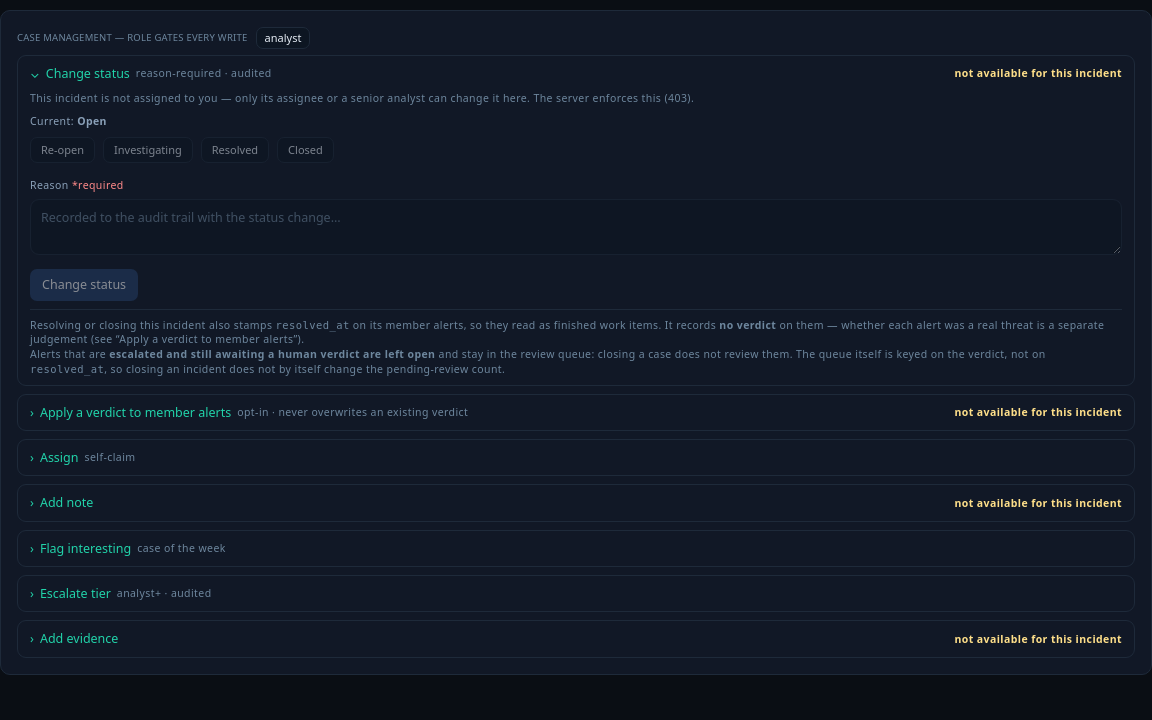
WO-H85 verdict propagation control › shows it disabled for an analyst who does not own the incident
The image size is (1152, 720).
Click the text "Apply a verdict to member alerts": point(136, 412) [40,402,231,422]
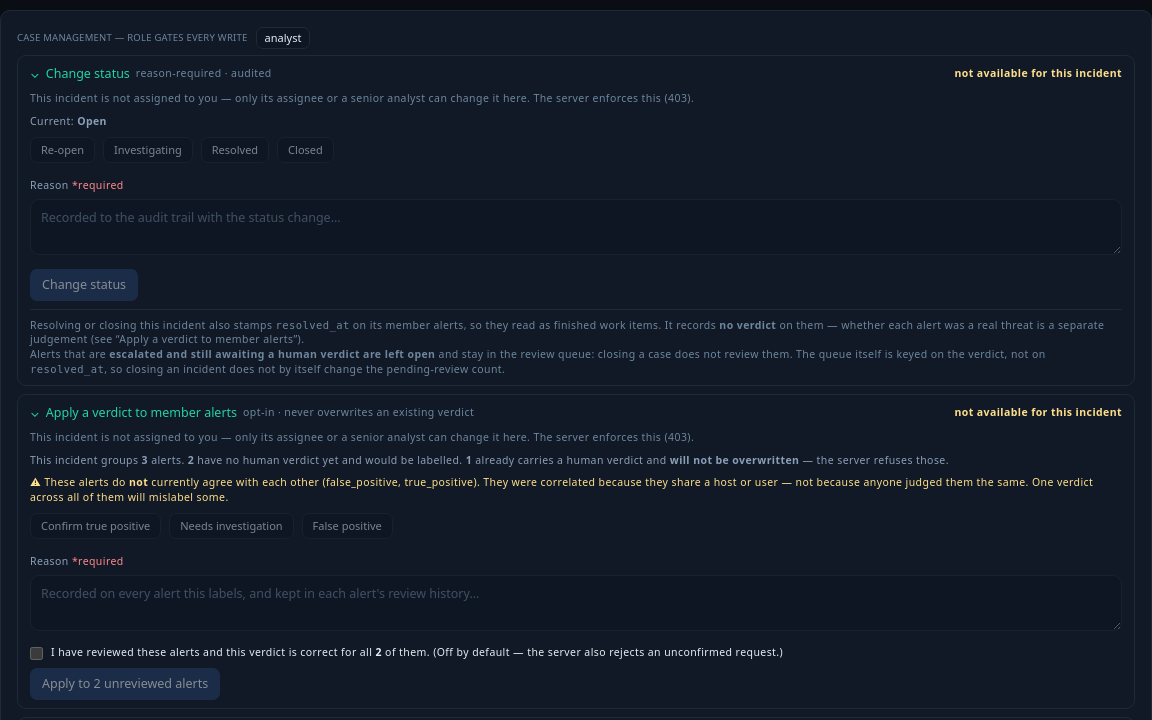
Check: the button "Apply to 2 unreviewed alerts" is disabled, box [30,668,220,700]
